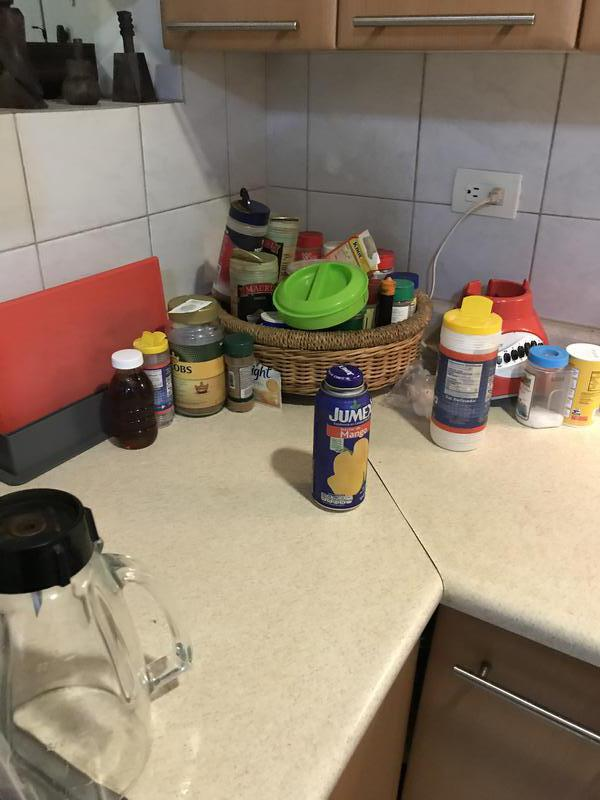jugo_jumex: (311, 367, 370, 513)
